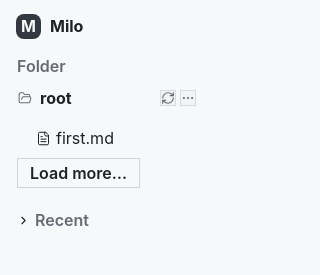
Test: folder expansion and request lifetimes › retries a failed next page at its original offset without losing earlier results
Click the button "Load more…" at (79,173), box [17,158,140,188]
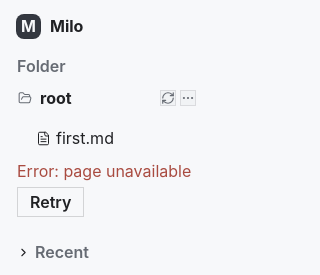
Expected: the button "first.md" is shown, [10,124,199,153]
Now the message shows "page unavailable", box [17,161,191,181]
Click the button "Retry" at (51,202), box [17,187,84,217]
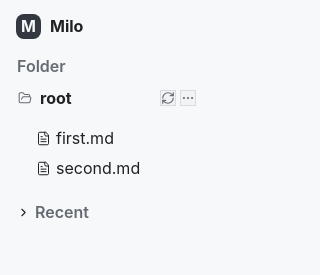
Expected: the button "first.md" is shown, [10,124,199,153]
Now the button "second.md" is shown, box [10,154,199,184]
